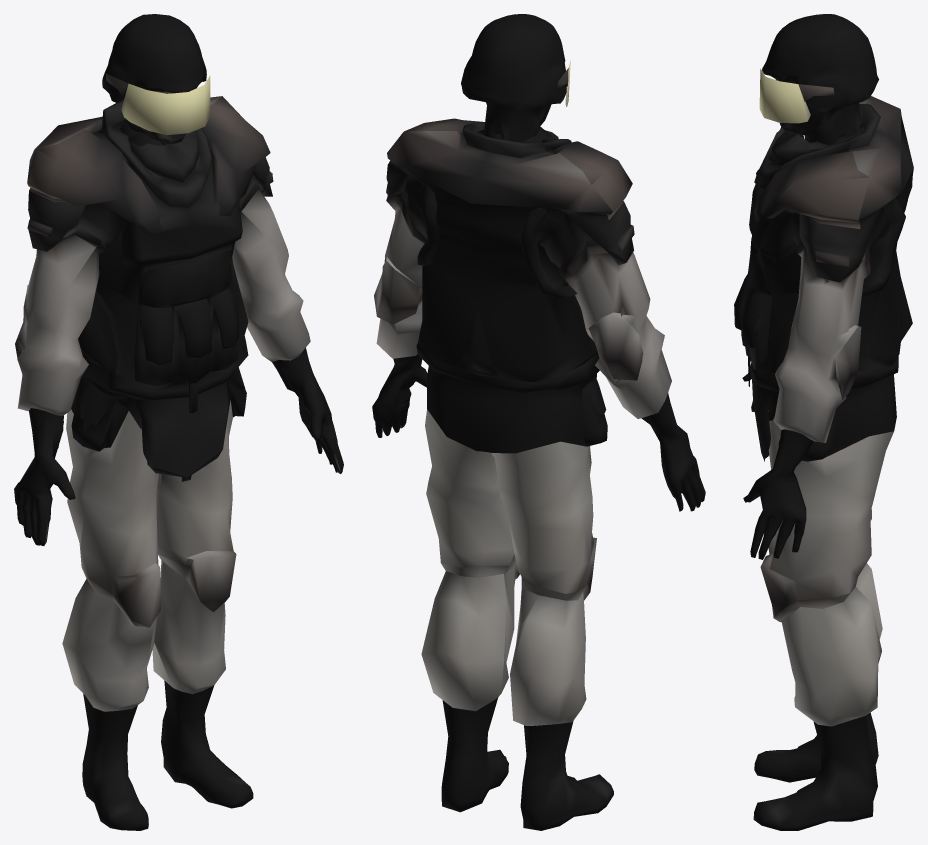
Rendered from guard.glb.
3 views of the same model, side by side, from view 1: azimuth 30°, elevation 25°; view 2: azimuth 150°, elevation 25°; view 3: azimuth 270°, elevation 25° (orthographic).
Parts seen in each view (by area): view 1: body; view 2: body; view 3: body.
Part boxes in pixels (x1,y1,x2,y2): body: [14, 14, 343, 830]; body: [372, 14, 705, 830]; body: [734, 14, 913, 830].
Bounding box in the file's own units: 0.7566 × 1.82 × 0.38.
